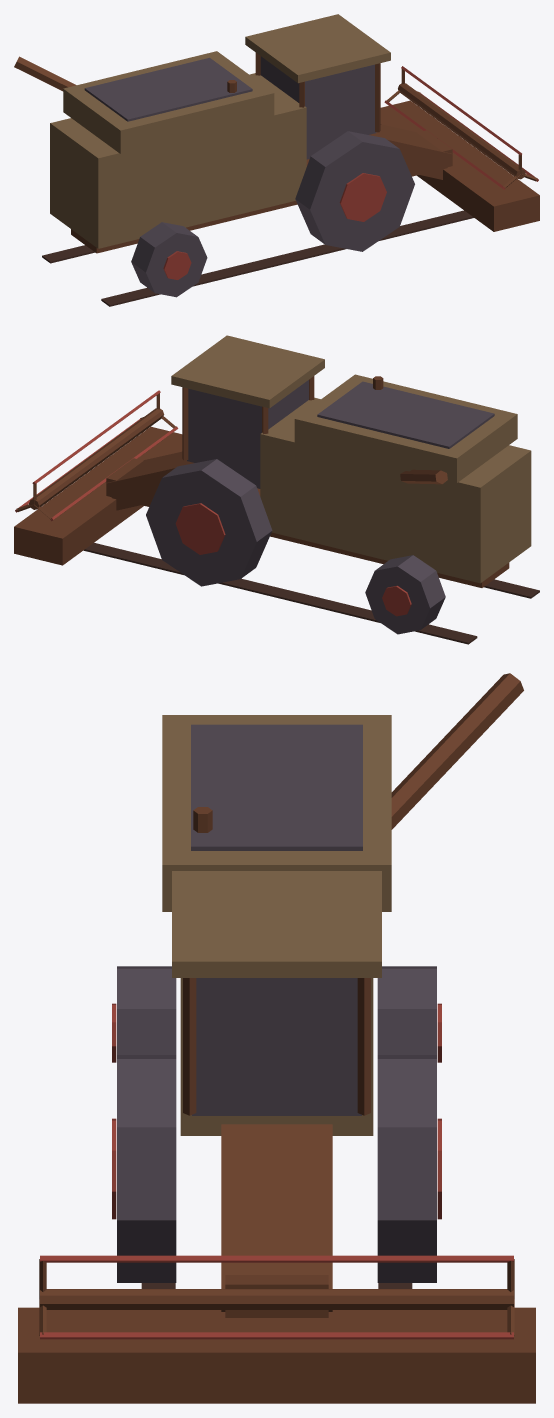
File: prop.farm-combine.lod1.glb
3 renders of one model, top to bottom at view 1: azimuth 30°, elevation 25°; view 2: azimuth 150°, elevation 25°; view 3: azimuth 270°, elevation 25°, orthographic. The views are drawn at different scales.
Parts seen in each view (by area): view 1: body; view 2: body; view 3: body.
Boxes of the visible parts, box(x1,y1,x2,y2) form: body: box(14, 14, 539, 306); body: box(14, 335, 539, 644); body: box(18, 673, 535, 1403).
Size of the model in its own units: 6.37 by 2.73 by 3.5.
